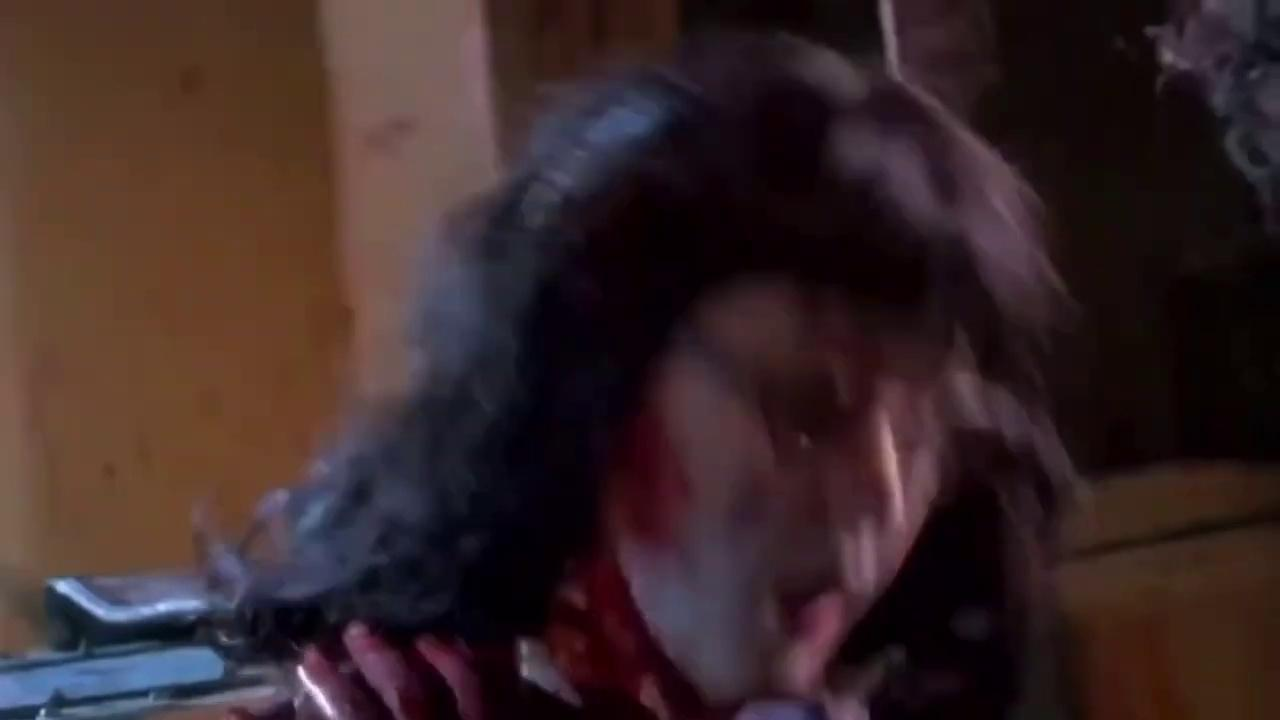Fire: (305, 278, 939, 720)
